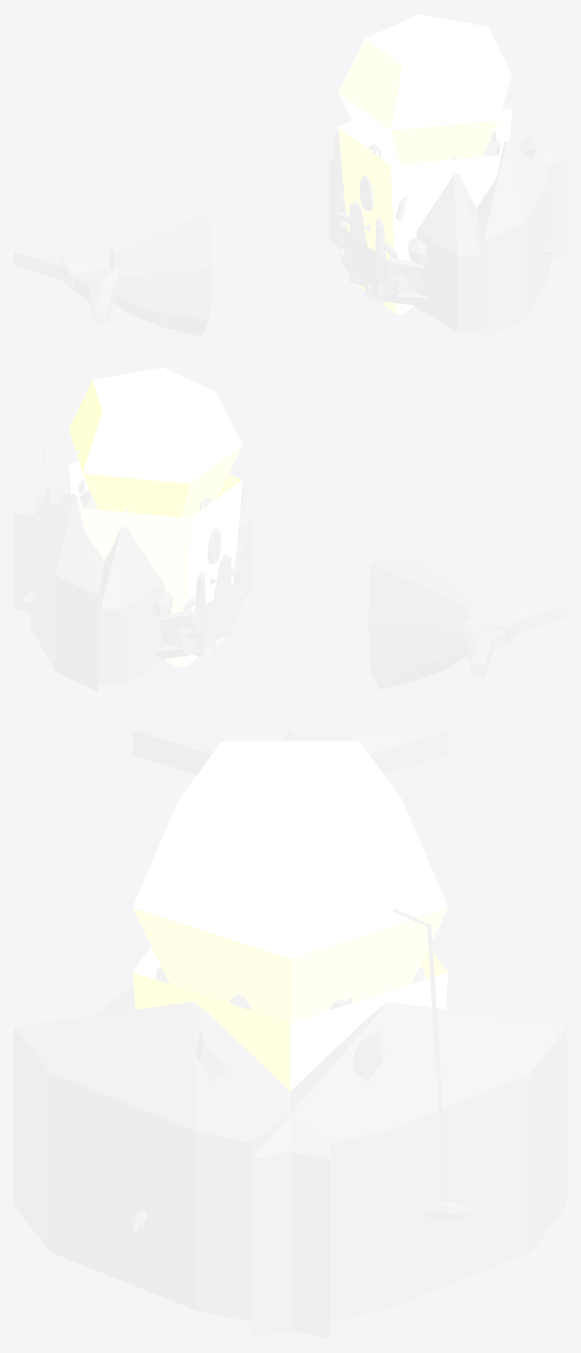
File: vie-mer-v5-leger.glb
3 renders of one model, top to bottom at view 1: azimuth 30°, elevation 25°; view 2: azimuth 150°, elevation 25°; view 3: azimuth 270°, elevation 25°, orthographic. The views are drawn at different scales.
Visible parts, largest first — view 1: bouee_feu.002, baleine_queue.002, tortue_nageoireg.002, marchand_lumieres.001, raie_aileg.002, peche_corps.002, tortue_nageoired.002, raie_ailed.002, marchand_corps.002, tortue_corps.002, raie_corps.002, baleine_corps.002; view 2: bouee_feu.002, baleine_queue.002, tortue_nageoired.002, marchand_lumieres.001, raie_ailed.002, peche_corps.002, tortue_nageoireg.002, raie_aileg.002, marchand_corps.002, tortue_corps.002, peche_canne.002, raie_corps.002 (+1 smaller); view 3: tortue_nageoireg.002, tortue_nageoired.002, bouee_feu.002, marchand_lumieres.001, baleine_queue.002, raie_corps.002, peche_canne.002.
Part boxes in pixels (x1,y1,x2,y2): bouee_feu.002: (338,14,511,165); baleine_queue.002: (14,182,212,336); tortue_nageoireg.002: (476,141,550,338); marchand_lumieres.001: (338,108,511,314); raie_aileg.002: (349,156,480,333); peche_corps.002: (338,144,424,288); tortue_nageoired.002: (334,131,566,259); raie_ailed.002: (328,153,388,303); marchand_corps.002: (337,238,427,305); tortue_corps.002: (335,192,427,265); raie_corps.002: (364,130,536,203); baleine_corps.002: (359,139,500,210); bouee_feu.002: (69,367,242,518); baleine_queue.002: (368,535,566,689); tortue_nageoired.002: (30,494,104,691); marchand_lumieres.001: (69,461,242,667); raie_ailed.002: (100,509,231,686); peche_corps.002: (156,497,242,641); tortue_nageoireg.002: (14,484,246,612); raie_aileg.002: (192,506,252,656); marchand_corps.002: (153,591,243,658); tortue_corps.002: (153,545,245,618); peche_canne.002: (22,447,250,604); raie_corps.002: (44,479,216,556); tortue_nageoireg.002: (14,1001,329,1338); tortue_nageoired.002: (251,1001,566,1338); bouee_feu.002: (132,741,448,1022); marchand_lumieres.001: (132,946,448,1090); baleine_queue.002: (132,720,448,774); raie_corps.002: (195,993,385,1081); peche_canne.002: (392,909,471,1220).
Size of the model in its own units: 6.8 by 3.5 by 3.5.
